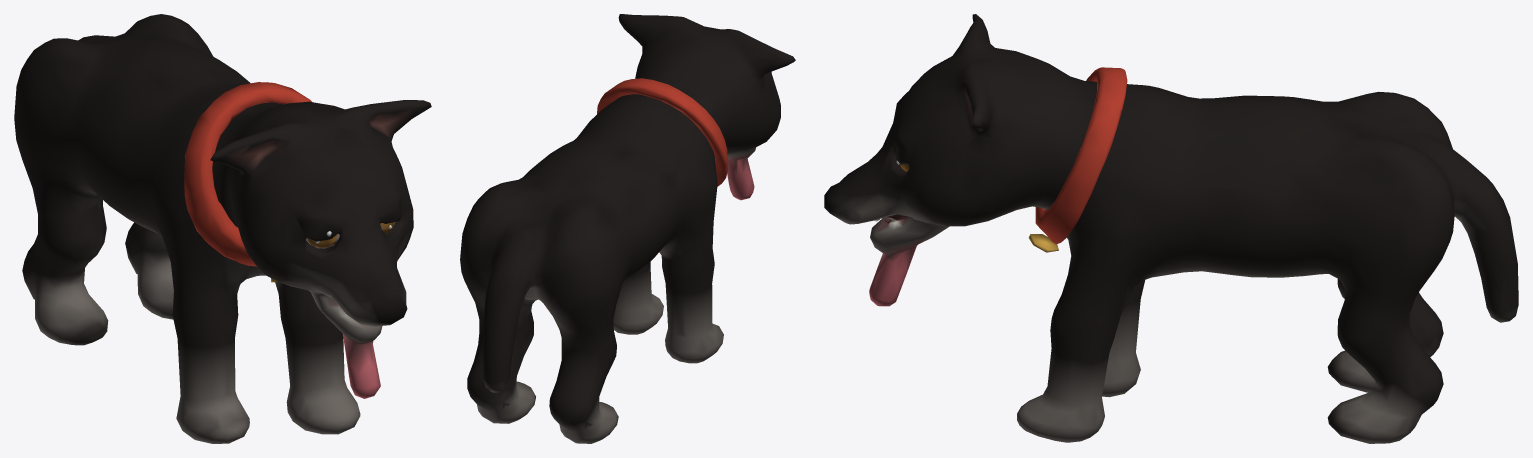
The model's file is cho_muc_met.glb.
The picture shows the model from 3 angles, left to right: view 1: azimuth 30°, elevation 25°; view 2: azimuth 150°, elevation 25°; view 3: azimuth 270°, elevation 25°; orthographic projection. The views are drawn at different scales.
Parts seen in each view (by area): view 1: cho_muc_met; view 2: cho_muc_met; view 3: cho_muc_met.
Boxes of the visible parts, <box> form: cho_muc_met: <box>14,14,431,443</box>; cho_muc_met: <box>460,14,795,443</box>; cho_muc_met: <box>824,14,1518,443</box>.
Size of the model in its own units: 0.4293 by 0.6611 by 1.16.
